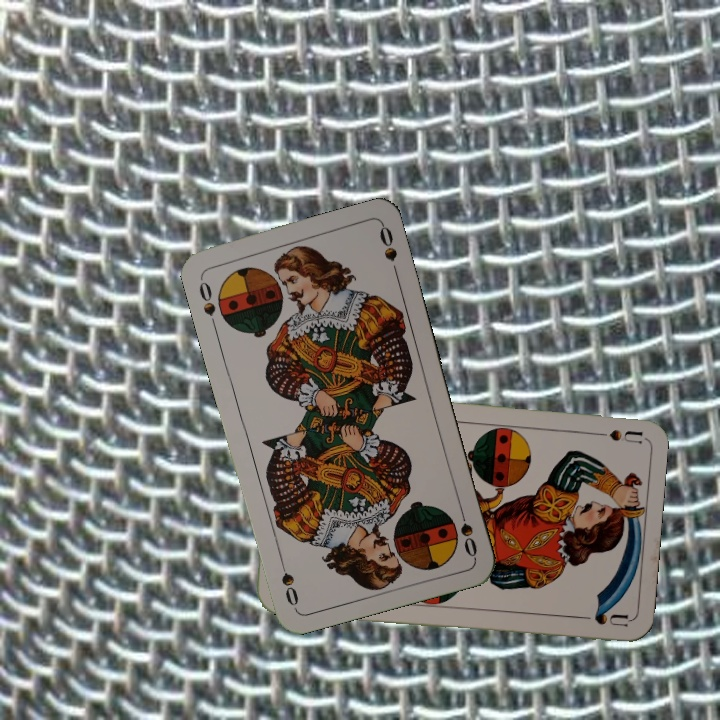SO: (455, 502, 480, 560), (195, 272, 219, 330)
SU: (583, 425, 643, 446)
